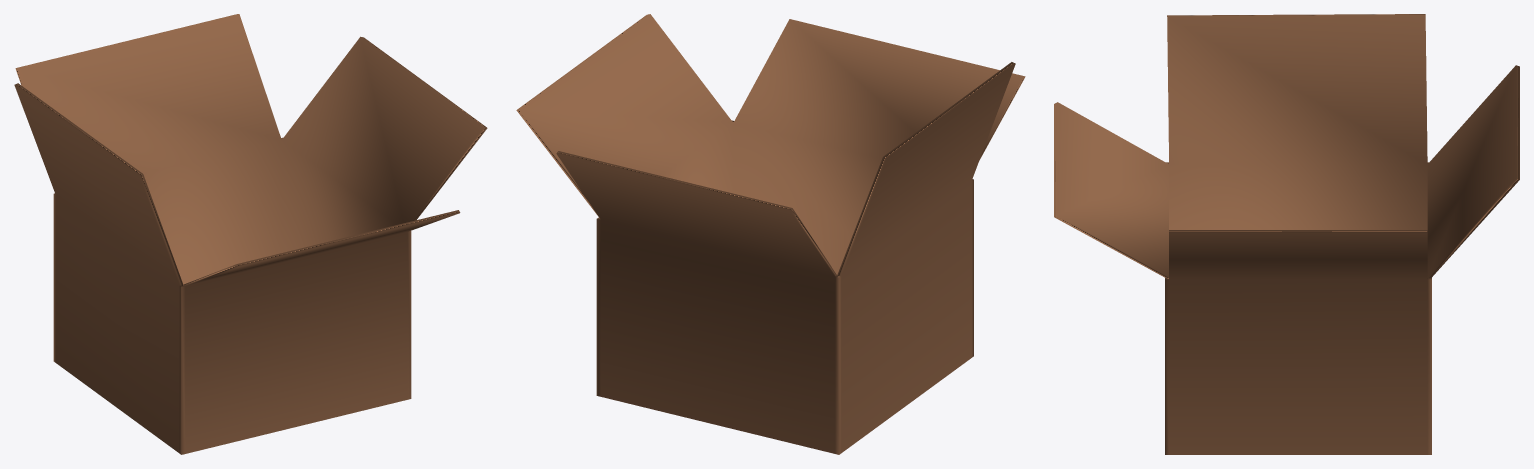
3 renders of one model, left to right at view 1: azimuth 30°, elevation 25°; view 2: azimuth 150°, elevation 25°; view 3: azimuth 270°, elevation 25°, orthographic. The views are drawn at different scales.
Visible parts, largest first — view 1: carton1:PolySphere_PolySphere; view 2: carton1:PolySphere_PolySphere; view 3: carton1:PolySphere_PolySphere.
Boxes of the visible parts, left/top/right/bottom form: carton1:PolySphere_PolySphere: left=14, top=14, right=487, bottom=454; carton1:PolySphere_PolySphere: left=516, top=14, right=1025, bottom=454; carton1:PolySphere_PolySphere: left=1054, top=14, right=1519, bottom=454.
Size of the model in its own units: 1.73 by 1.36 by 1.9.
